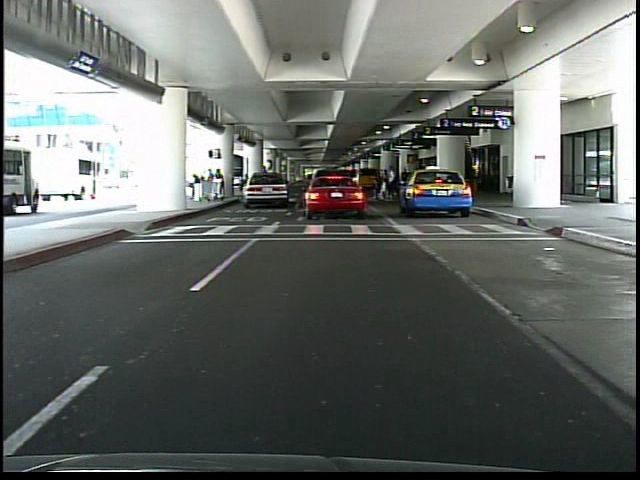person: (260, 165, 273, 205), (388, 166, 400, 201), (400, 166, 411, 203), (368, 173, 379, 202)
